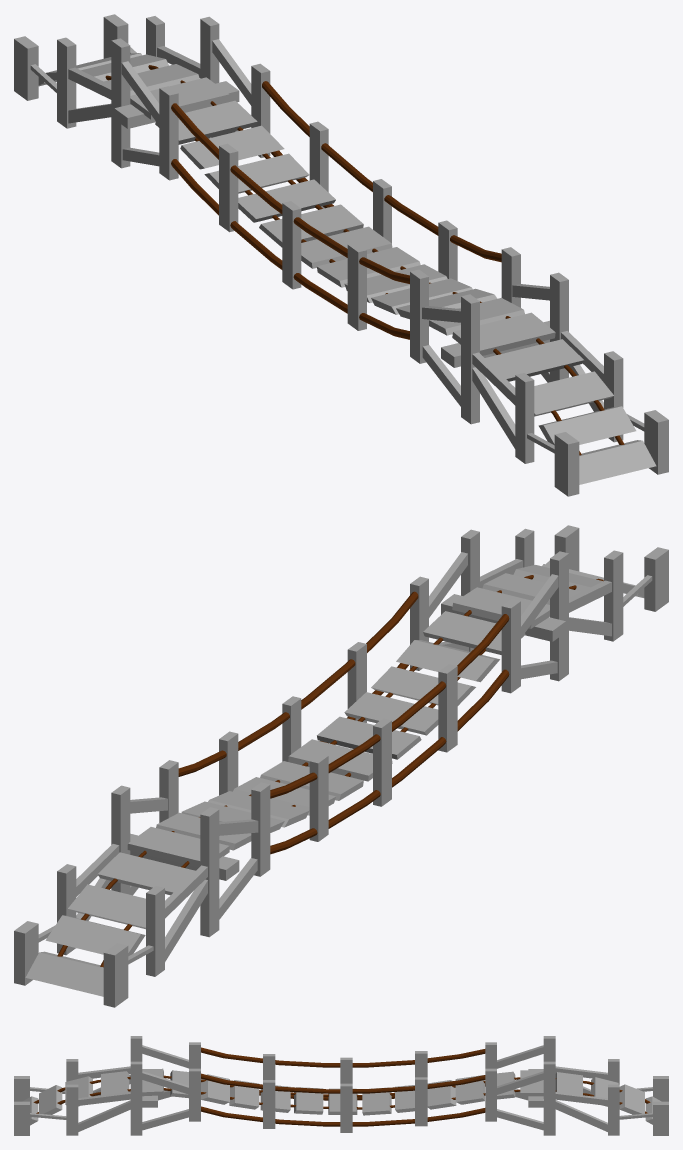
The model's file is BeigBridge.fbx.
The picture shows the model from 3 angles, top to bottom: view 1: azimuth 30°, elevation 25°; view 2: azimuth 150°, elevation 25°; view 3: azimuth 270°, elevation 25°; orthographic projection. The views are drawn at different scales.
Parts seen in each view (by area): view 1: pCylinder195; view 2: pCylinder195; view 3: pCylinder195.
Boxes of the visible parts, bbox=[...] form: pCylinder195: bbox=[14, 14, 668, 496]; pCylinder195: bbox=[14, 525, 668, 1007]; pCylinder195: bbox=[14, 1036, 668, 1135].
Bounding box in the file's own units: 697 × 719 × 5987.
